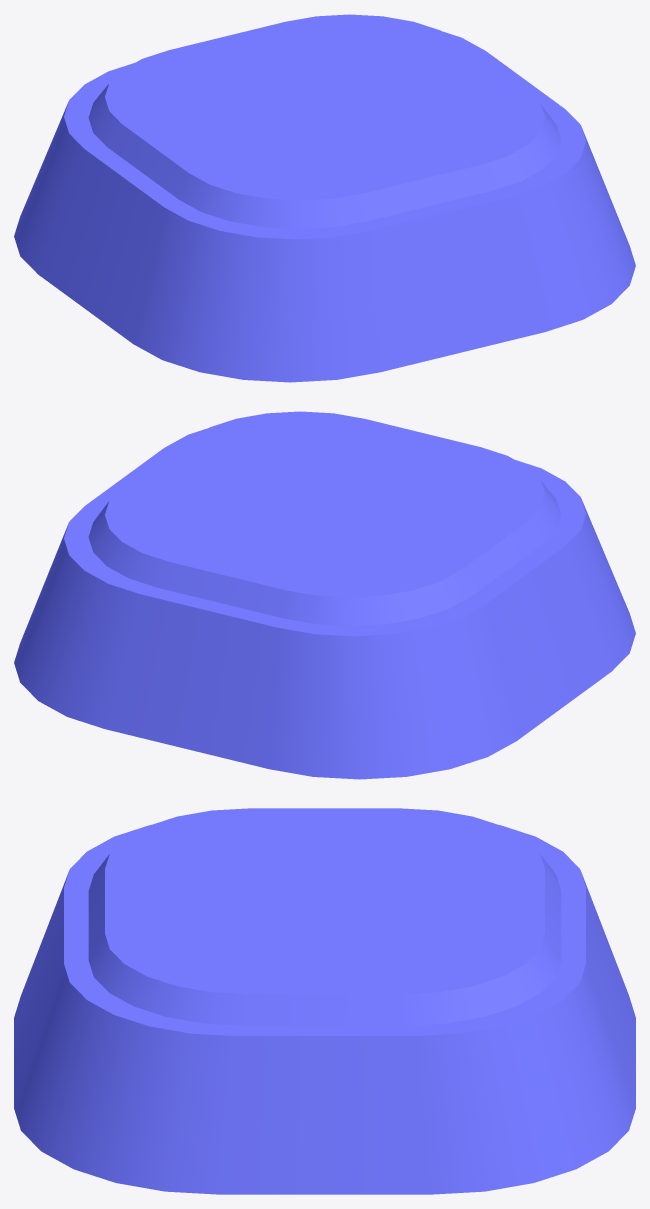
File: platform.fbx
The picture shows the model from 3 angles, top to bottom: view 1: azimuth 30°, elevation 25°; view 2: azimuth 150°, elevation 25°; view 3: azimuth 270°, elevation 25°; orthographic projection. The views are drawn at different scales.
Visible parts, largest first — view 1: Cube.060; view 2: Cube.060; view 3: Cube.060.
Boxes of the visible parts, x1,y1,x2,y2 form: Cube.060: (14, 14, 635, 382); Cube.060: (14, 411, 635, 779); Cube.060: (14, 808, 635, 1194).
Size of the model in its own units: 287 by 82.43 by 287.
